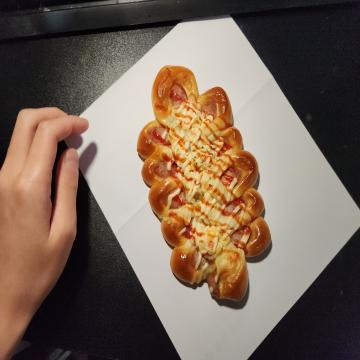pizza_bread: (139, 65, 270, 305)
